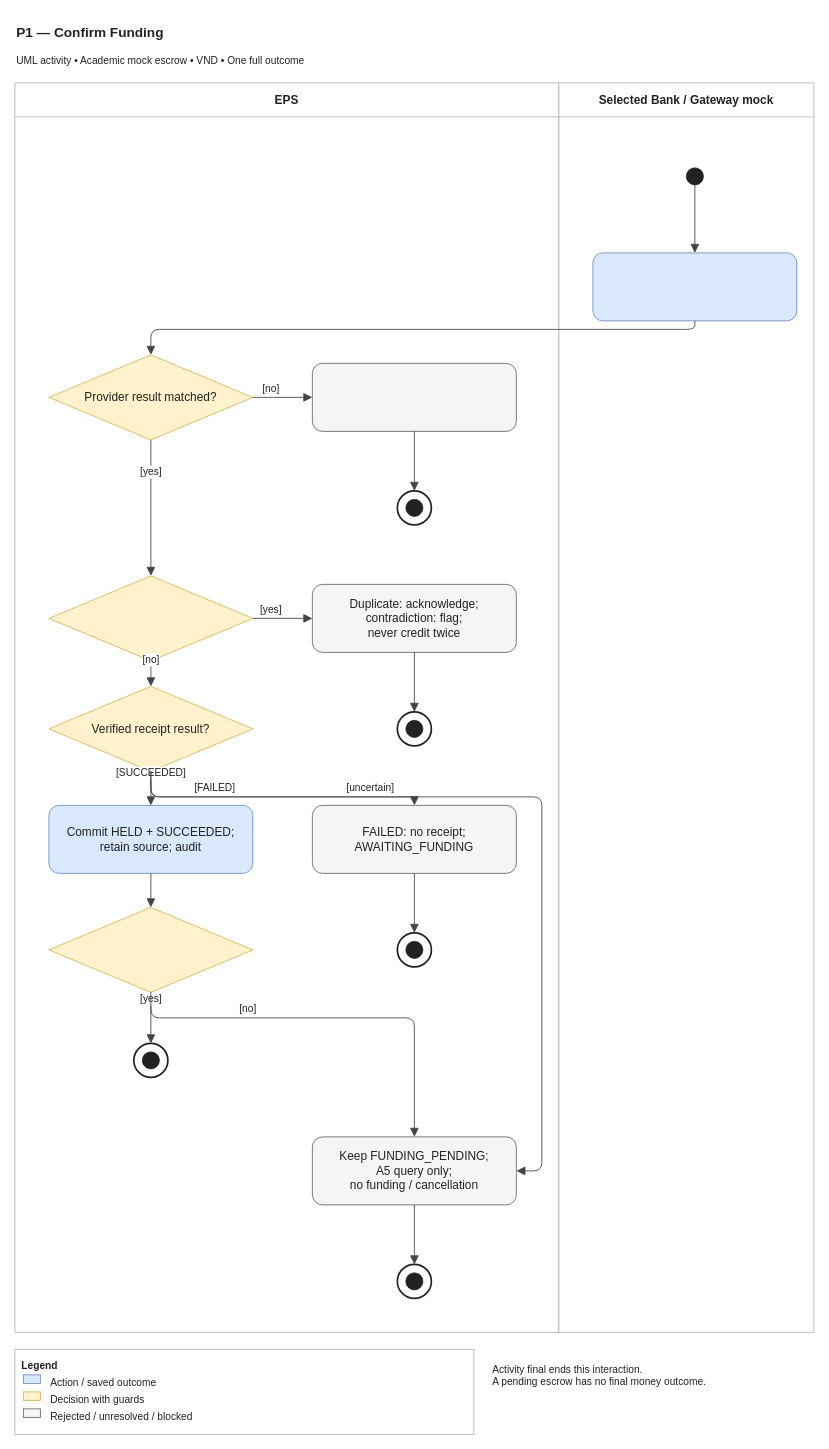
The diagram is 829 pixels wide and 1449 high, and some of its shapes have lost their labels. Each missing label, with the centre of its shape:
"Quarantine invalid result; preserve money; audit" belongs at pixel 414 397.
"Result durably saved?" belongs at pixel 150 949.
"Send Funding result for stored attempt" belongs at pixel 694 286.
"Stored result final / conflicting?" belongs at pixel 150 618.
